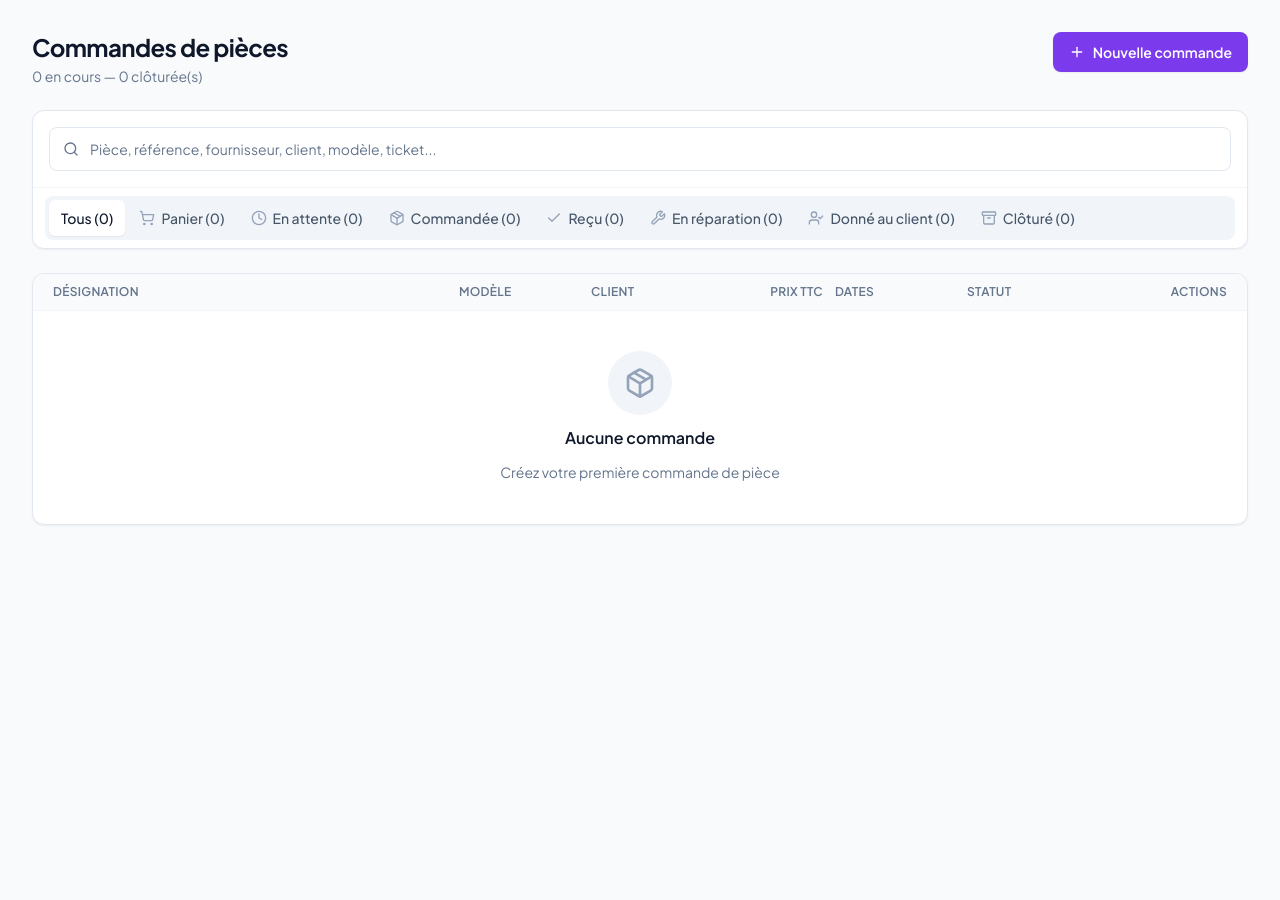
commandes : prix HT payé › non-admin : pièces de la grille du ticket, HT jamais prérempli ; prix envoyé avec la pièce
Click the button "Nouvelle commande" at (1150,52), box [1053,32,1248,72]
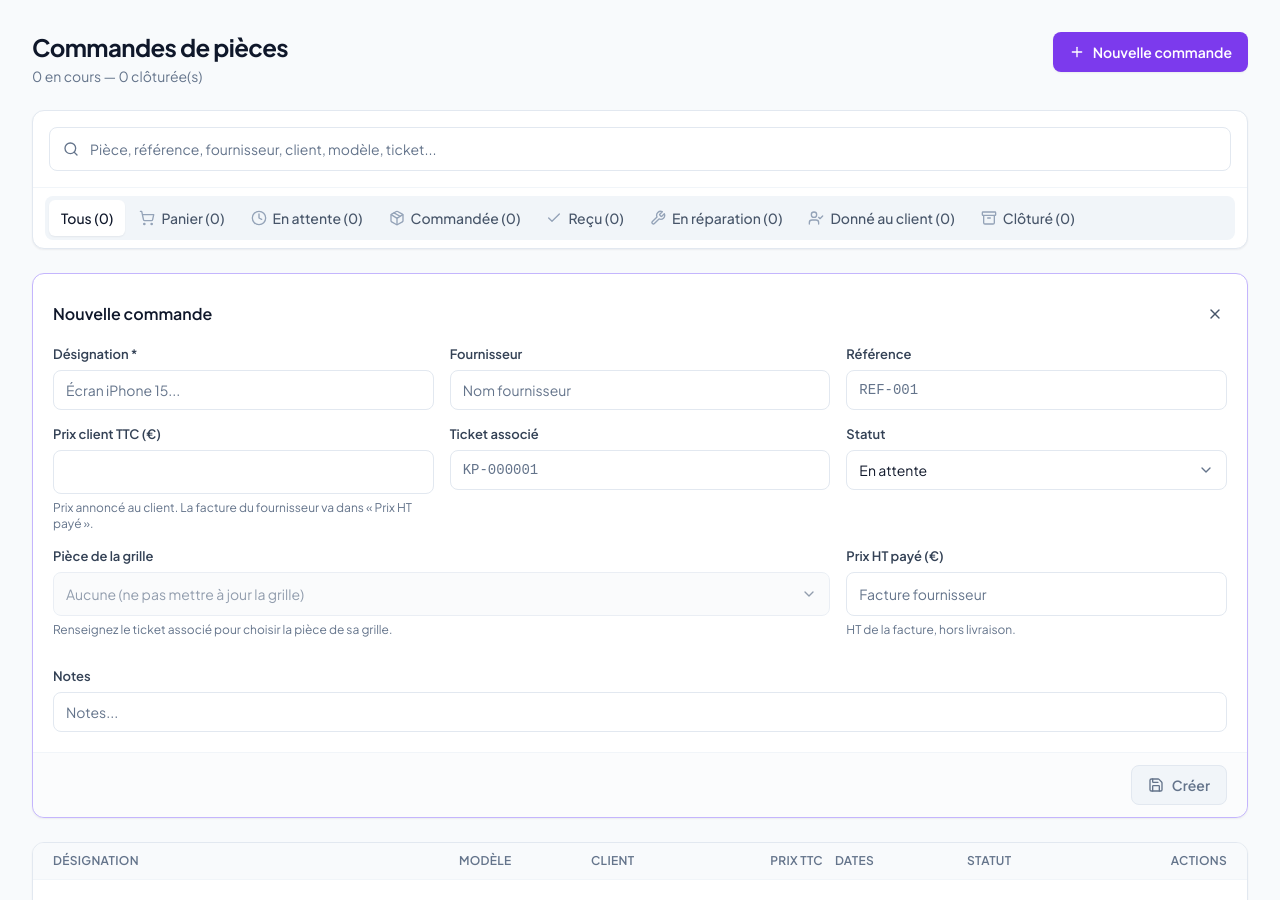
Type "Écran iPhone 13 OLED" into the field labelled "Désignation *" at (243,390), box [53,370,434,410]
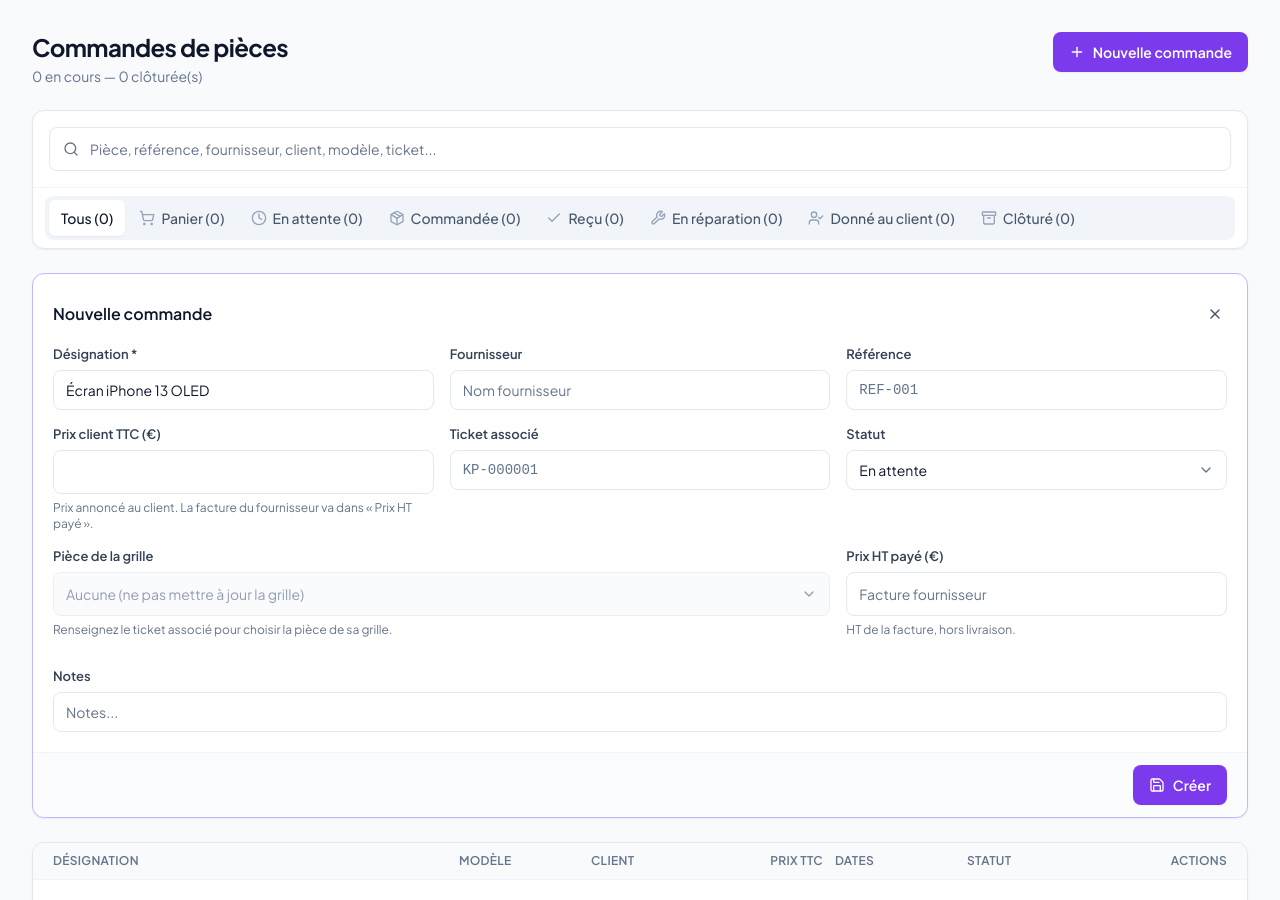
Type "KP-000042" into the field labelled "Ticket associé" at (640,470), box [450,450,830,490]
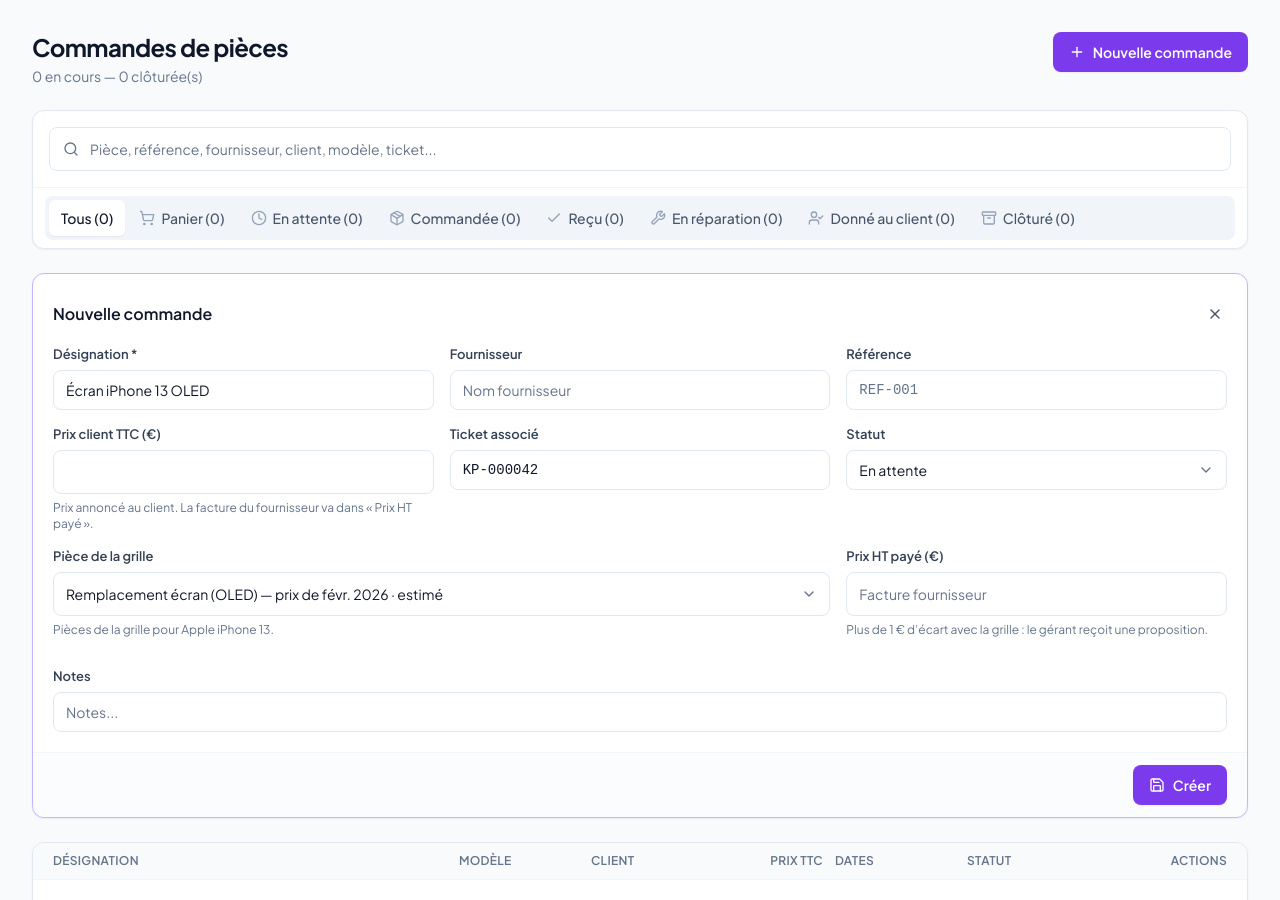
Check: the option "OLED" does not show "HT"
Check: the field labelled "Prix HT payé (€)" is empty
Check: the dropdown labelled "Pièce de la grille" shows "Remplacement écran (OLED) — prix de févr. 2026 · estimé", box [53,572,830,616]
Type "52,40" into the field labelled "Prix HT payé (€)" at (1037,594), box [846,572,1227,616]
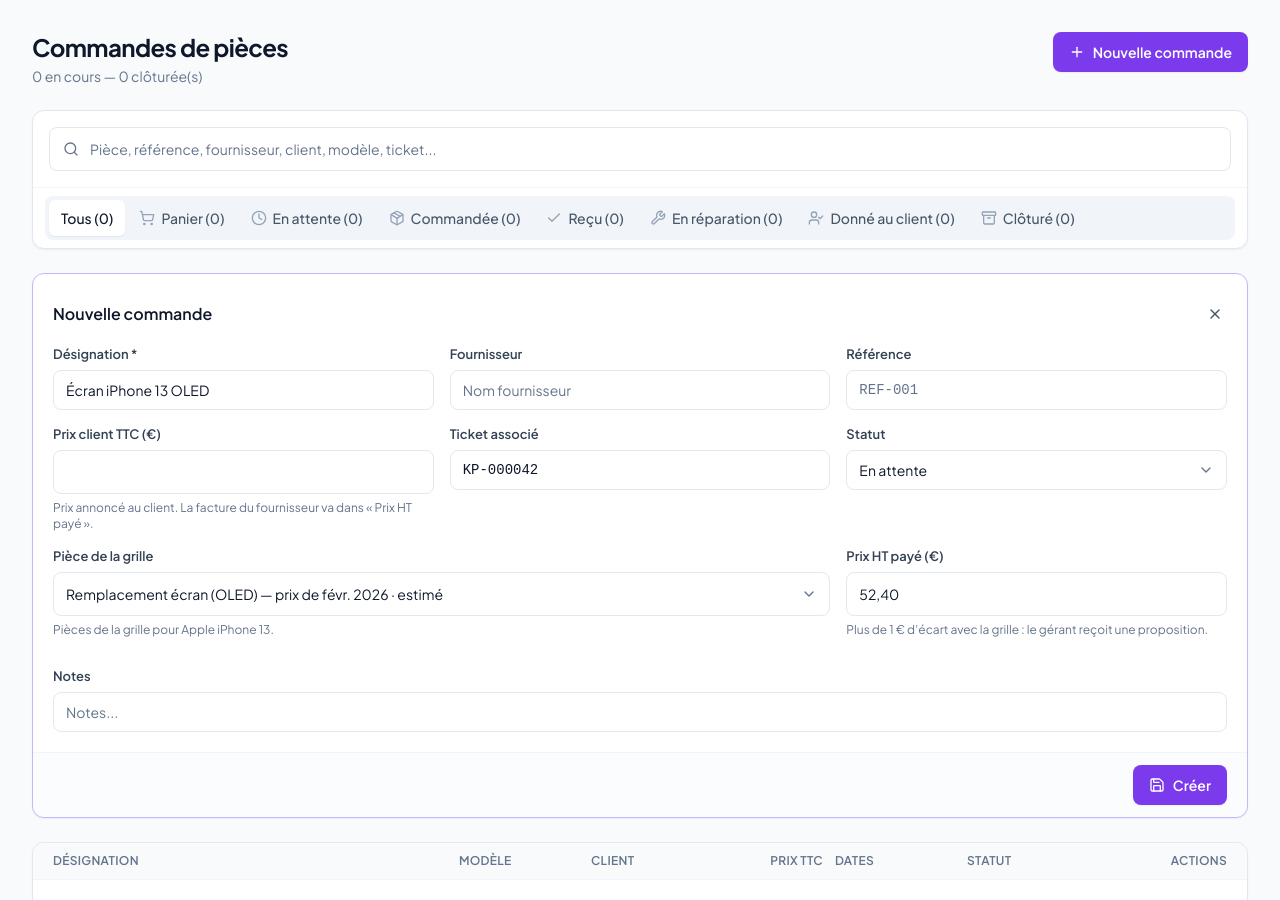
Click the button "Créer" at (1180,784), box [1133,764,1227,804]
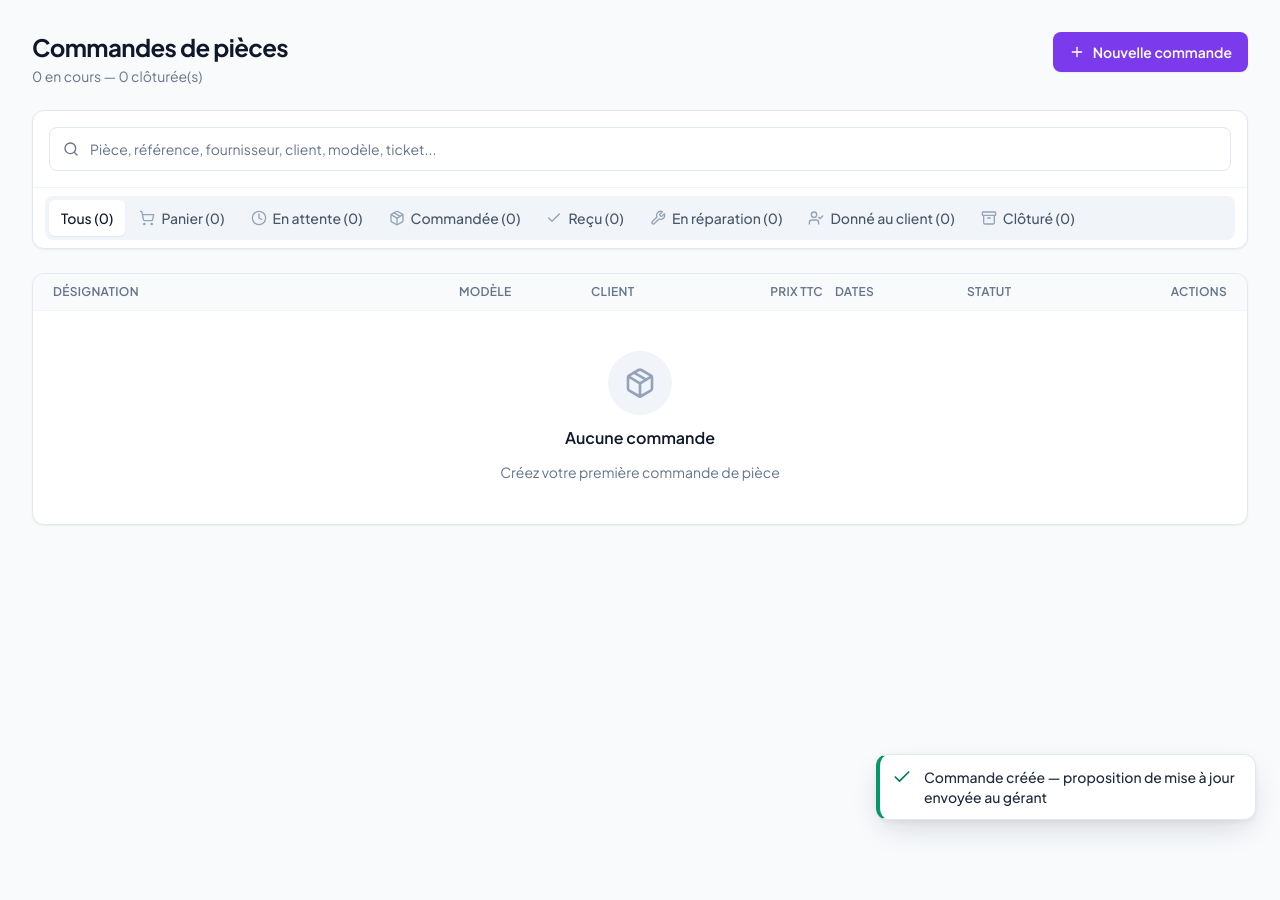
Check: the text "proposition de mise à jour envoyée au gérant" is shown, box [924,768,1235,806]
